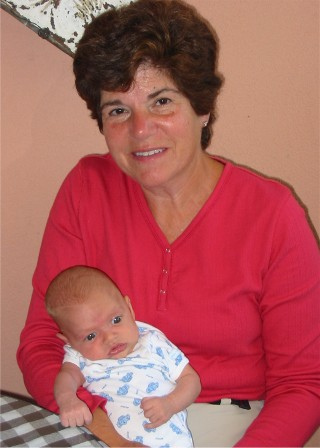person: (16, 1, 320, 448), (45, 266, 203, 448)
